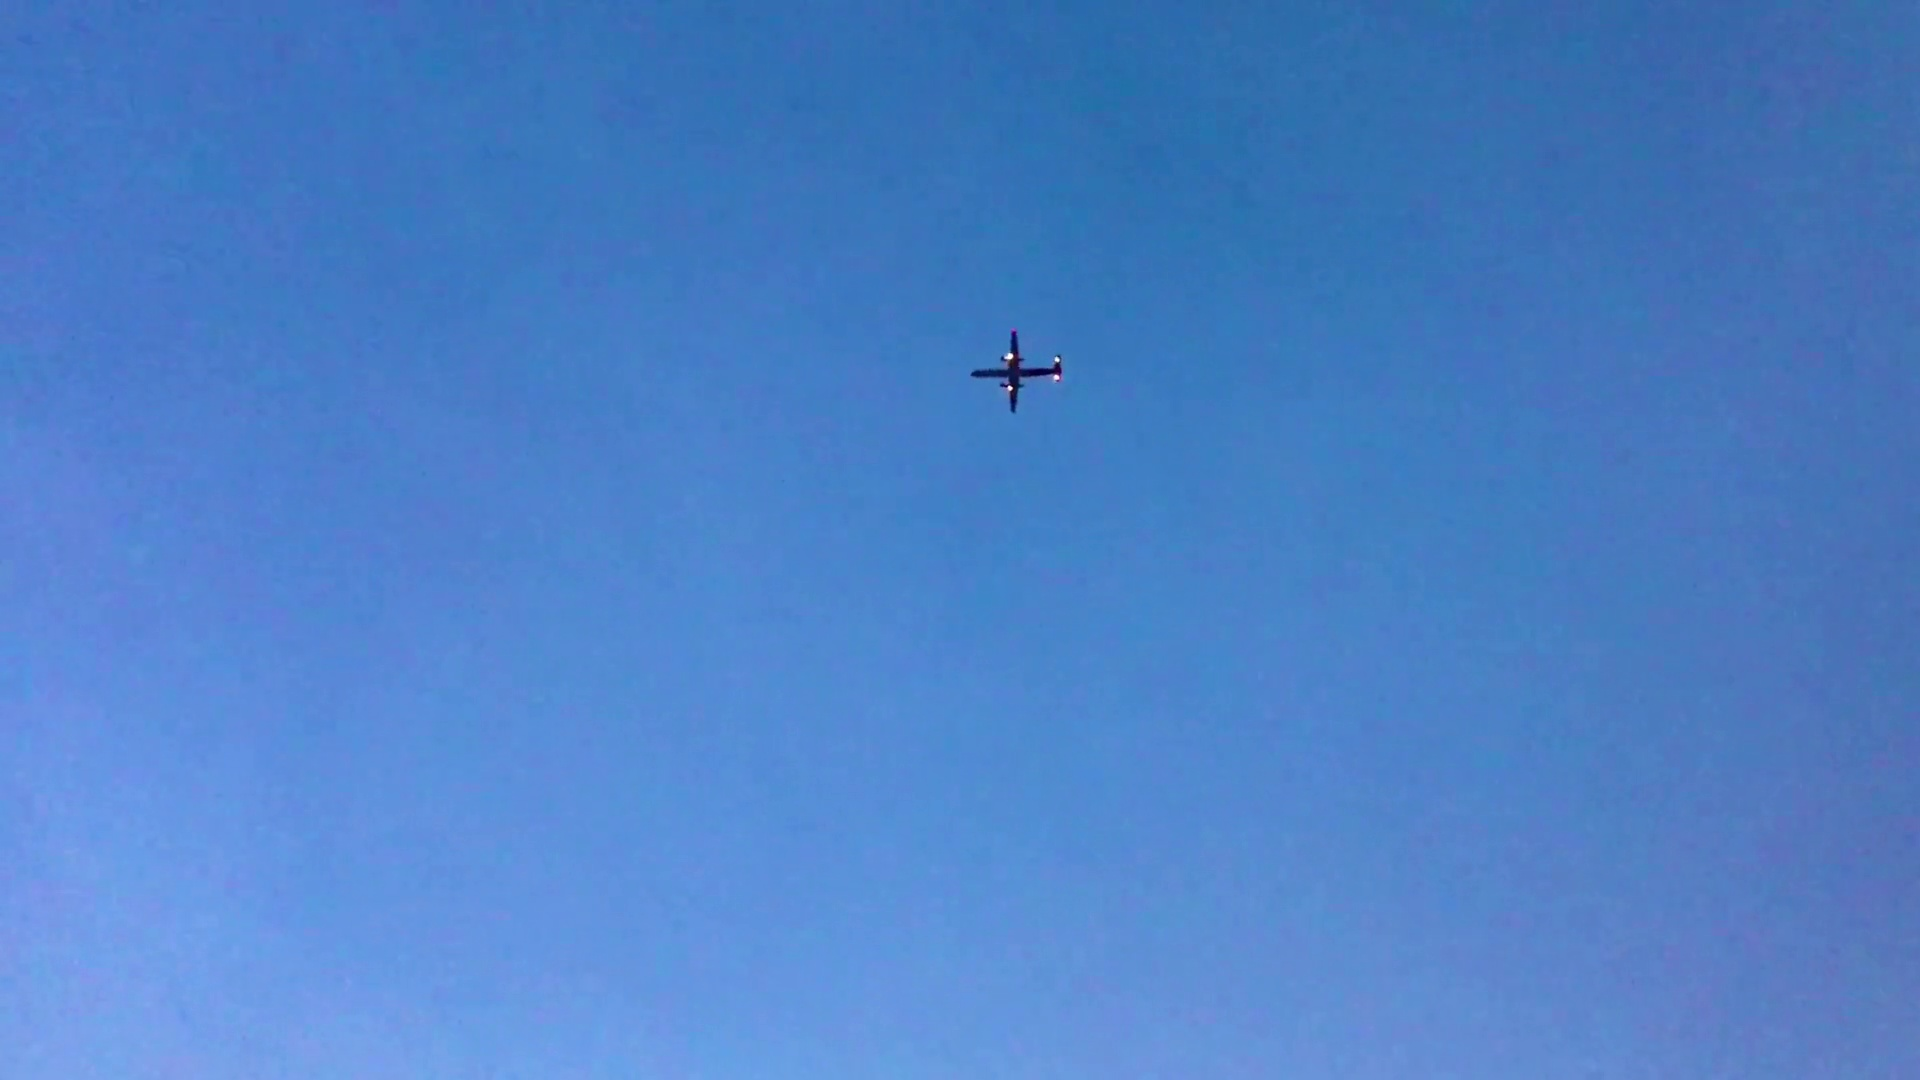plane: (969, 326, 1065, 415)
